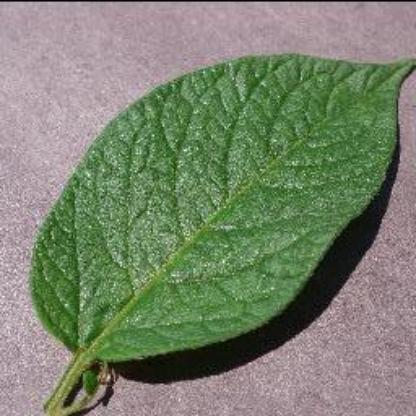Healthy-plant: (23, 33, 416, 402)
